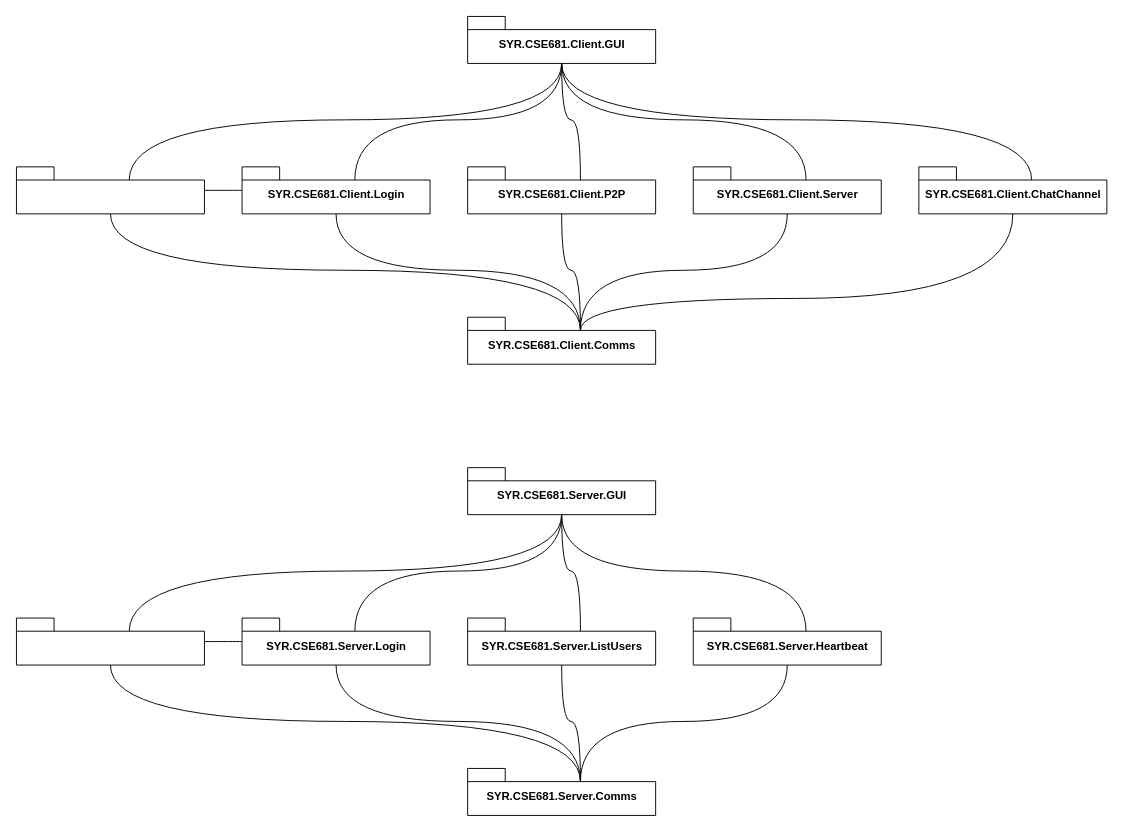
Some shapes in this 1123 by 832 pixel diagram are drawn without their labels. The shapes that lost their labels are listed below. From the top down, each one's centre as x and y in pixels, then its label:
At point 110,190: "SYR.CSE681.Client.UserAccount".
At point 110,641: "SYR.CSE681.Server.UserAccount".
